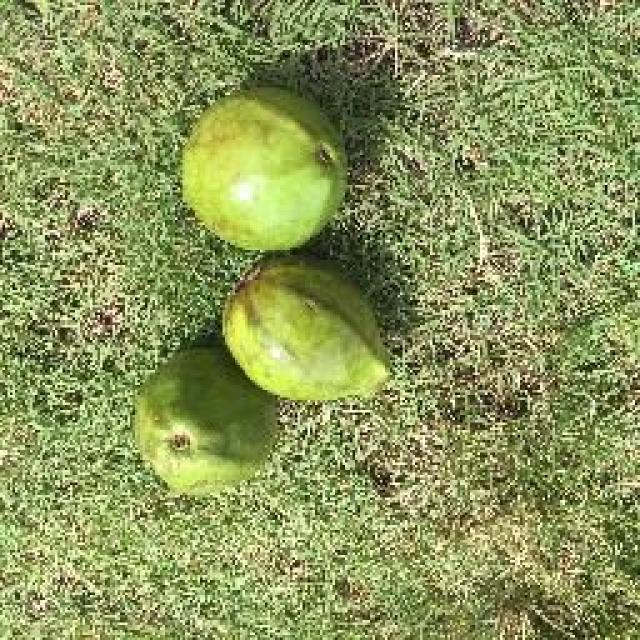Good_Guava: (180, 85, 348, 255)
